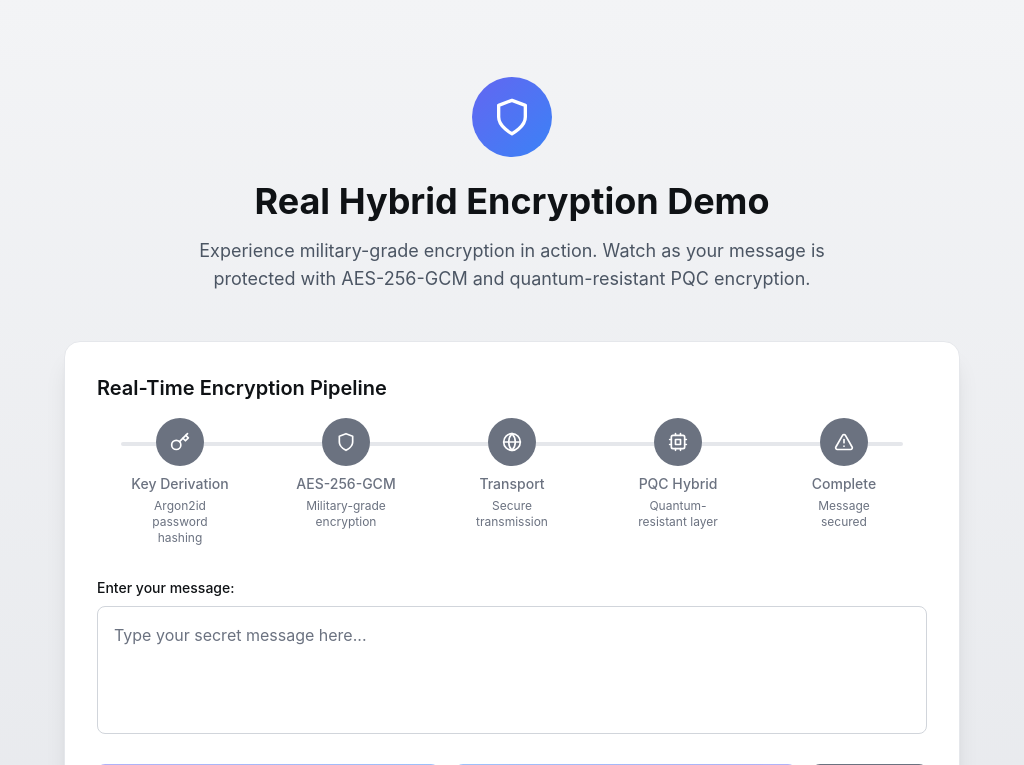
EncryptionDemo Component › allows reset functionality
Type "Test message" into the text box with placeholder "Type your secret message here..." at [512, 670], box [97, 606, 927, 734]
(page scrolled)
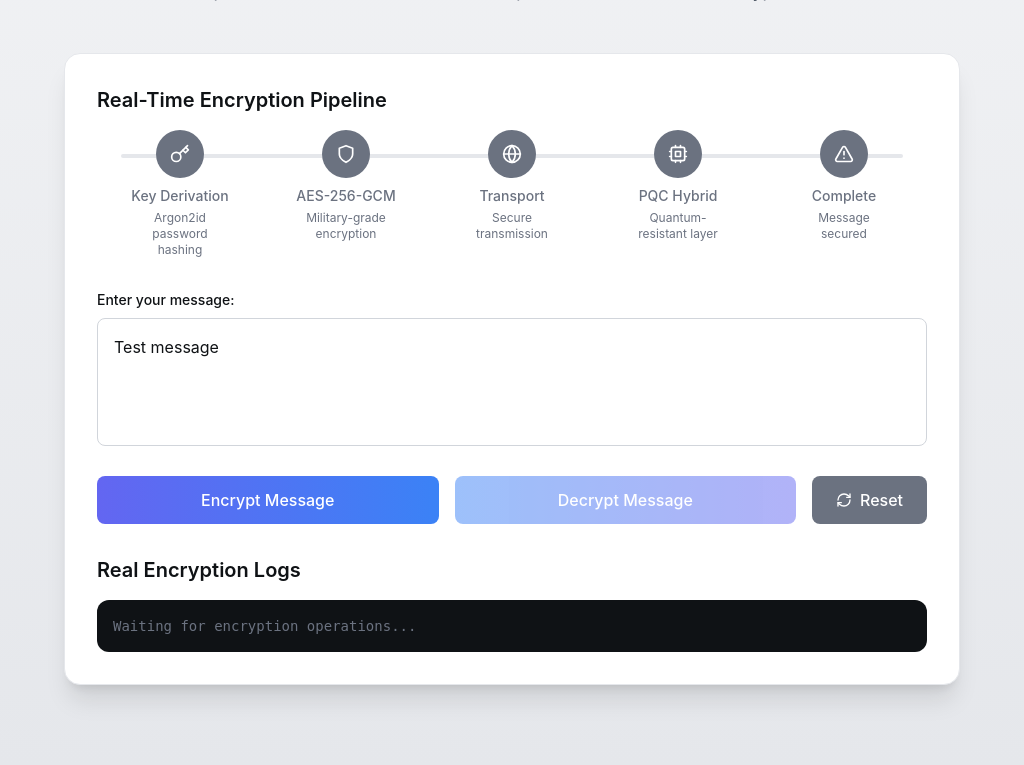
Click the button "Reset" at [870, 500], box [812, 476, 927, 524]
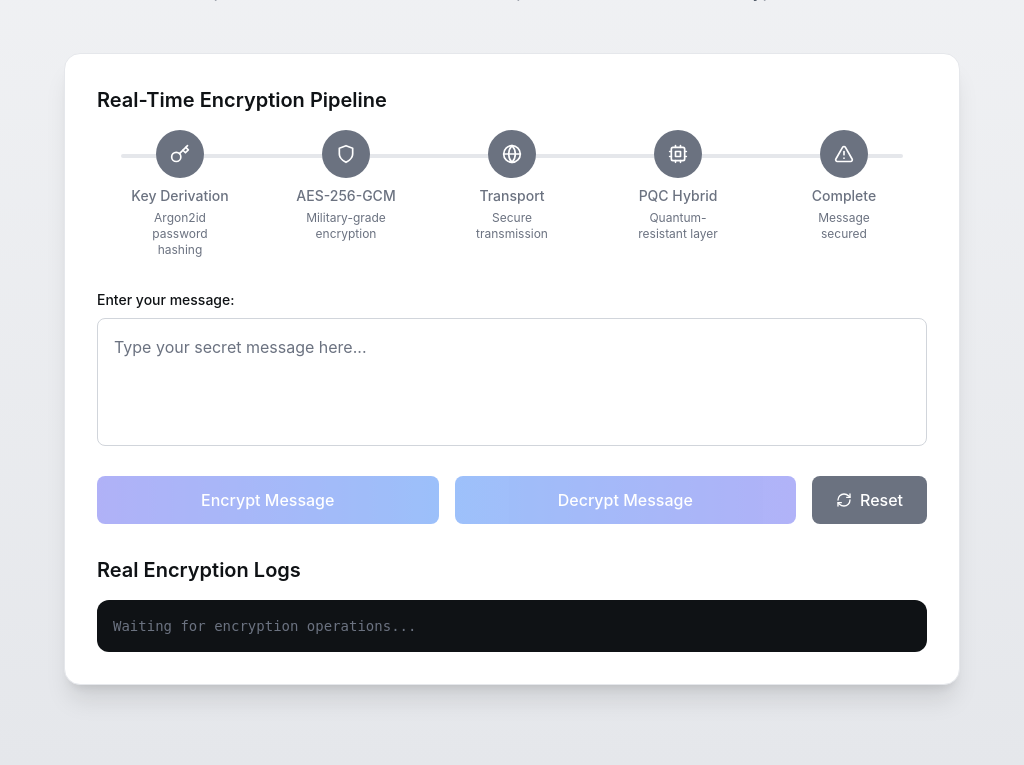
Now the text box with placeholder "Type your secret message here..." is empty, box [97, 318, 927, 446]
